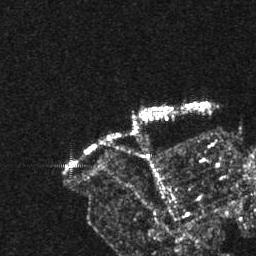ship: (138, 103, 175, 117), (180, 99, 212, 111), (83, 143, 98, 156)
